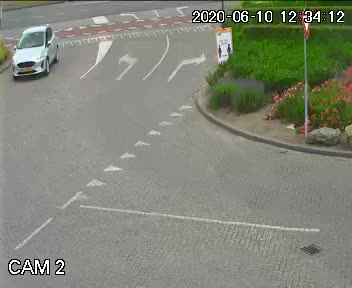car: (9, 21, 63, 82)
